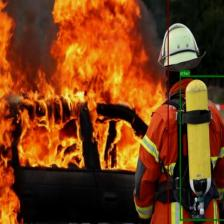fire: (0, 0, 169, 224)
